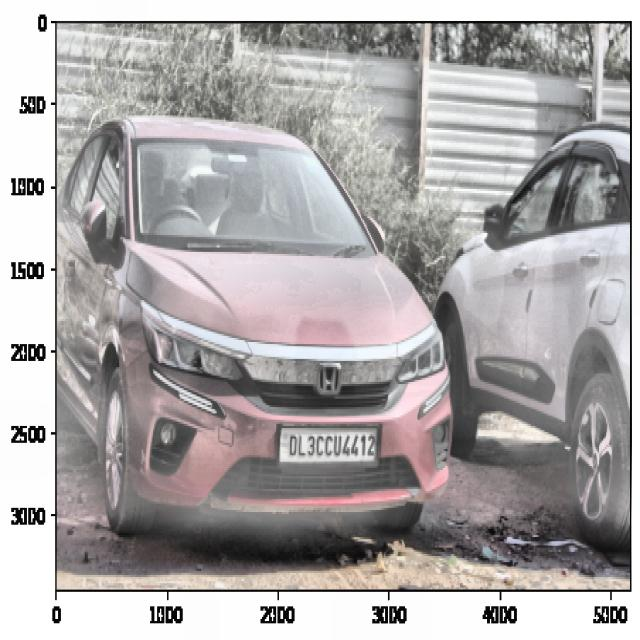license_plate: (286, 427, 377, 463)
